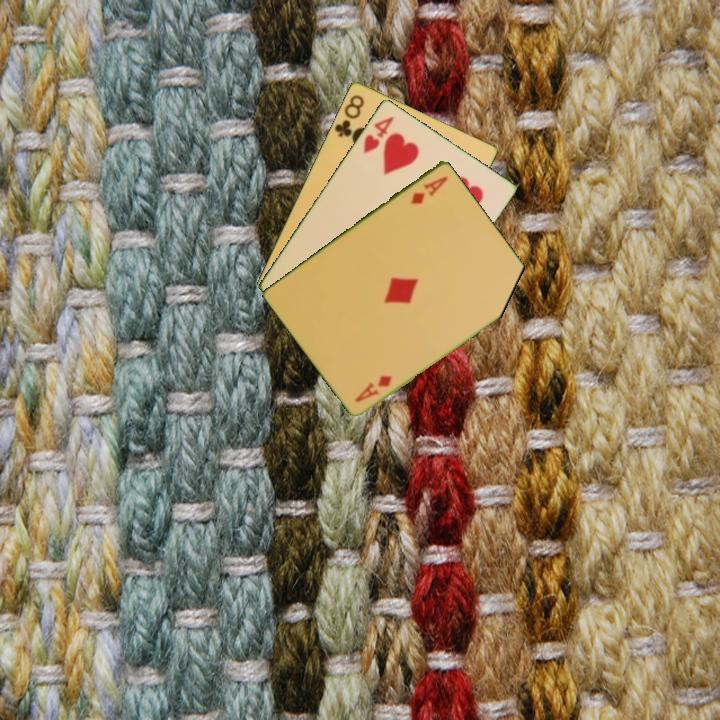4h: (360, 113, 396, 156)
8c: (331, 91, 367, 141)
Ad: (407, 172, 451, 207), (351, 371, 395, 405)
